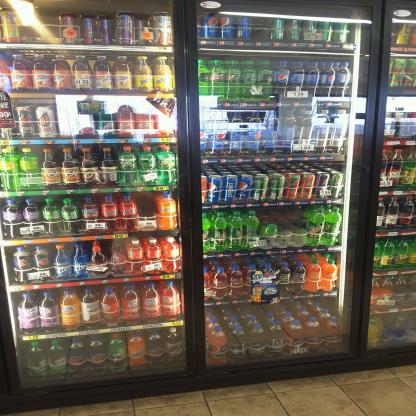Void: (23, 5, 59, 46), (275, 209, 304, 246), (138, 192, 154, 228), (251, 9, 267, 41)
